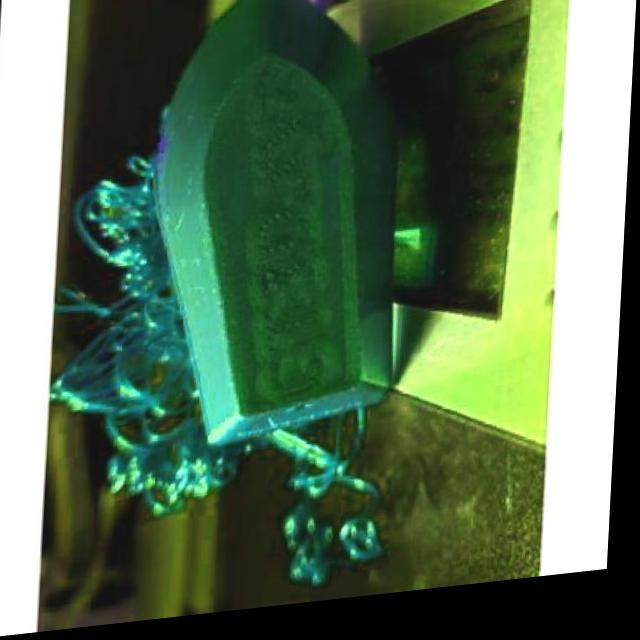spaghetti: (40, 147, 269, 534), (266, 410, 395, 602)
